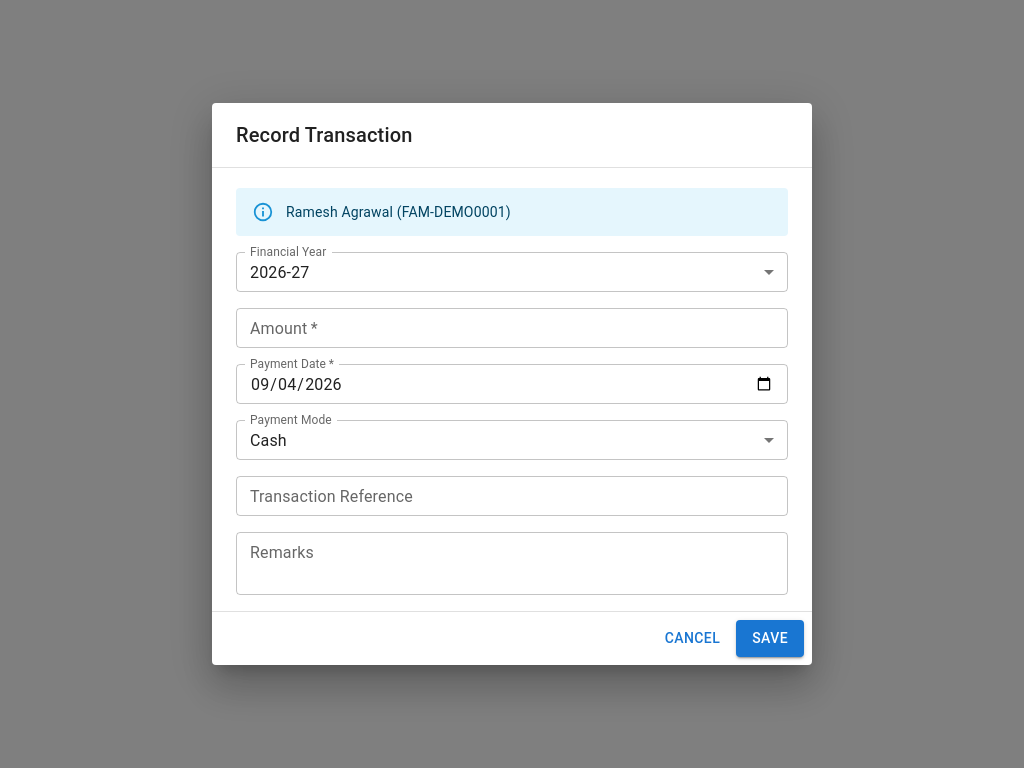
Scenario: RecordTransactionDialog › rejects a zero or negative amount the same way as a blank one
Type "0" into the number field labelled "Amount *".
click(512, 328); type("0")  # box [236,308,788,348]
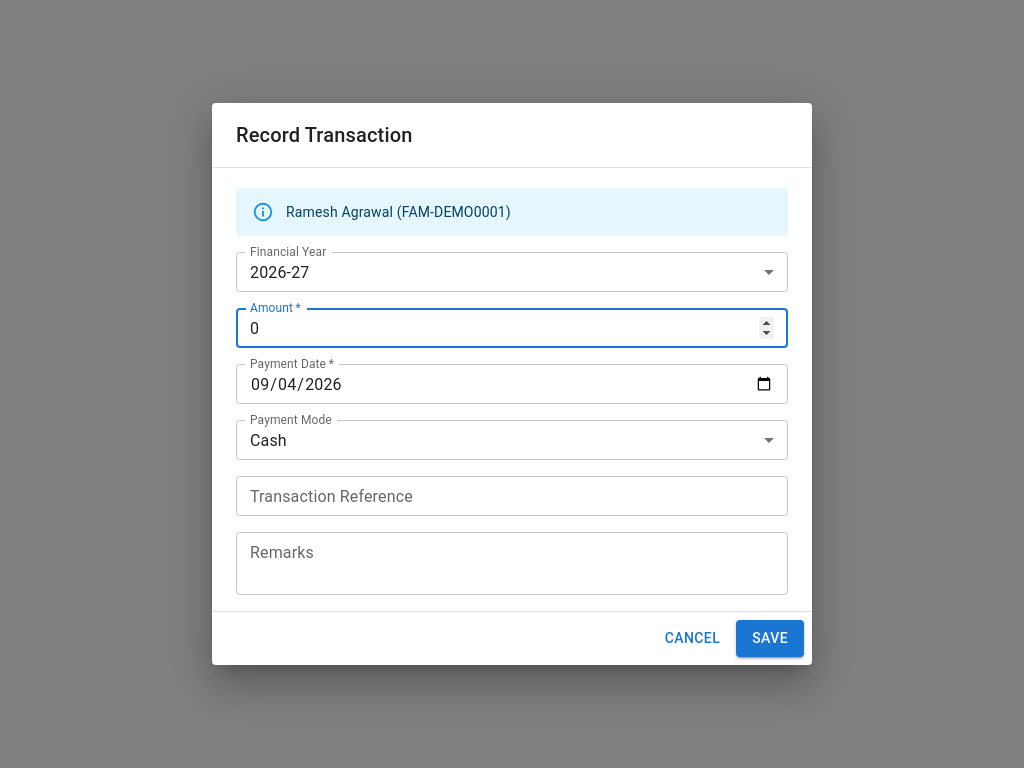
Click the button "Save".
click(770, 639)  # box [736,620,804,657]
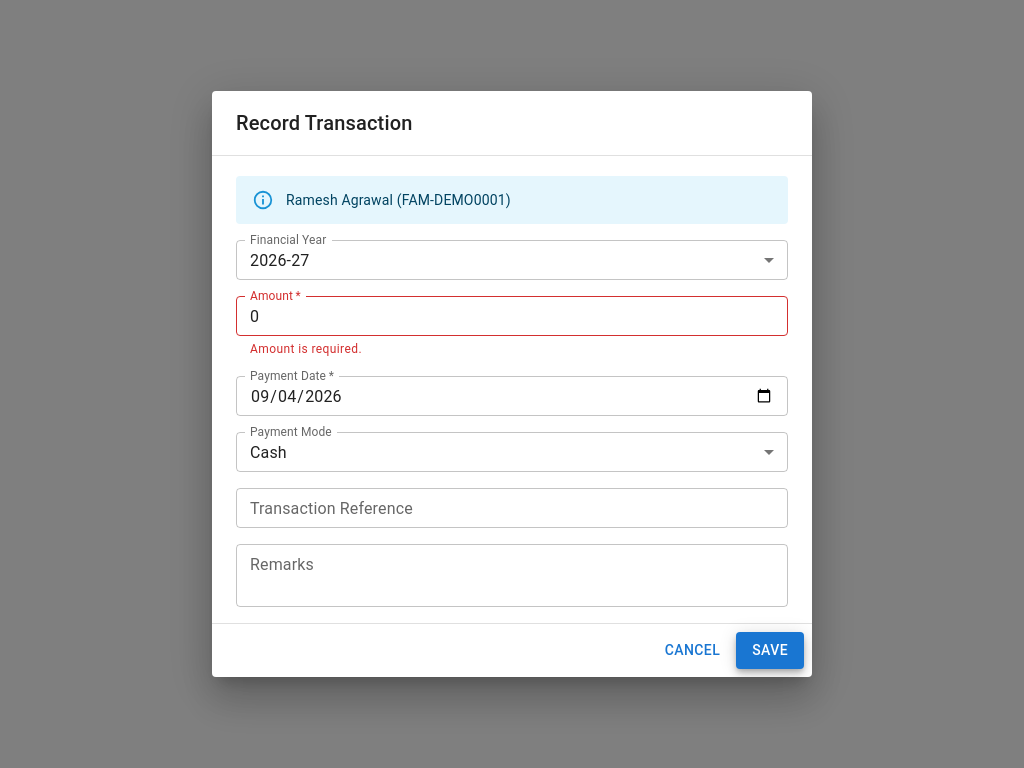
Check: the text "Amount is required." is shown, box [250,342,362,356]
